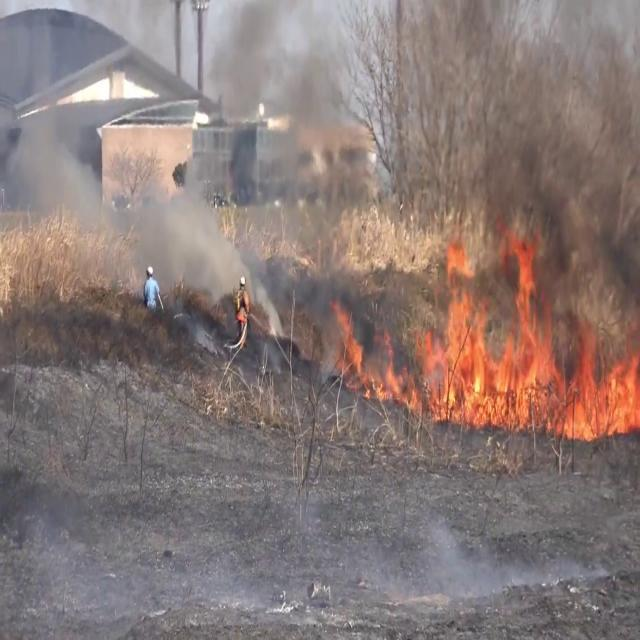Fire: (421, 231, 640, 437), (328, 294, 410, 406)
Smoke: (226, 0, 640, 294), (0, 4, 104, 250), (131, 171, 243, 295)
